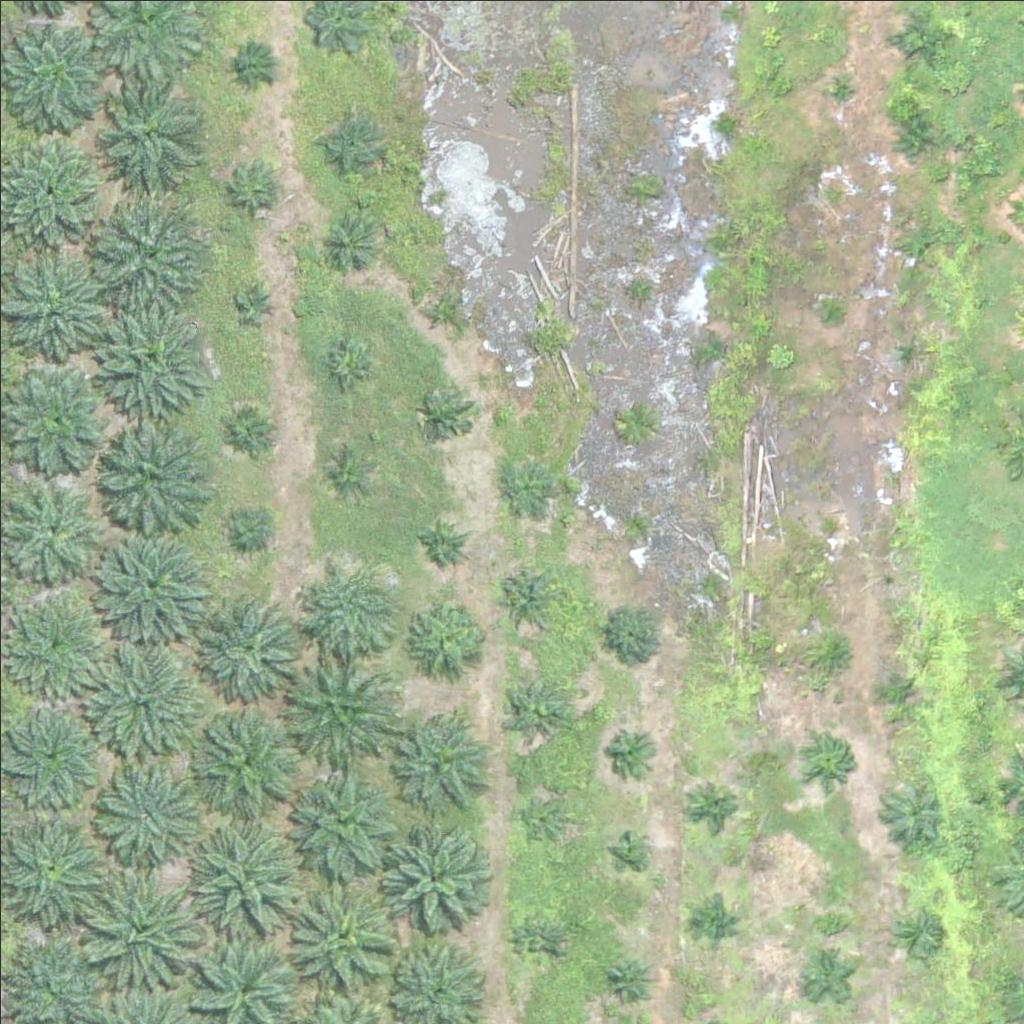Kelapa_Sawit: (184, 817, 309, 943), (77, 869, 202, 995), (81, 644, 194, 758), (195, 589, 308, 702), (91, 300, 204, 413), (90, 198, 203, 311), (90, 83, 203, 196), (3, 589, 116, 702), (190, 700, 302, 814), (282, 644, 394, 758), (286, 760, 398, 874), (283, 877, 395, 991), (94, 523, 206, 636), (94, 411, 206, 524), (3, 696, 103, 797), (91, 756, 191, 857), (382, 827, 482, 927), (394, 701, 494, 801), (405, 590, 492, 678), (305, 563, 392, 651), (494, 563, 557, 626), (880, 780, 943, 843), (599, 604, 662, 667), (501, 673, 563, 736), (316, 209, 378, 272), (317, 112, 379, 175), (407, 511, 469, 574), (888, 6, 950, 69), (690, 779, 740, 830), (606, 725, 656, 776), (226, 164, 276, 215), (872, 666, 922, 717), (810, 631, 860, 682), (230, 40, 280, 91), (500, 457, 550, 507), (424, 393, 474, 443), (508, 914, 558, 964), (688, 897, 738, 947), (800, 952, 850, 1002), (893, 909, 943, 959), (805, 734, 855, 784), (322, 337, 372, 387), (321, 446, 371, 496), (519, 795, 569, 845), (603, 955, 653, 1005), (224, 505, 274, 555), (223, 402, 273, 452), (611, 832, 649, 870), (419, 291, 457, 329), (236, 282, 274, 320), (818, 69, 856, 107), (894, 117, 932, 155), (898, 226, 936, 264), (890, 332, 927, 370), (817, 305, 842, 330), (820, 514, 845, 539)
